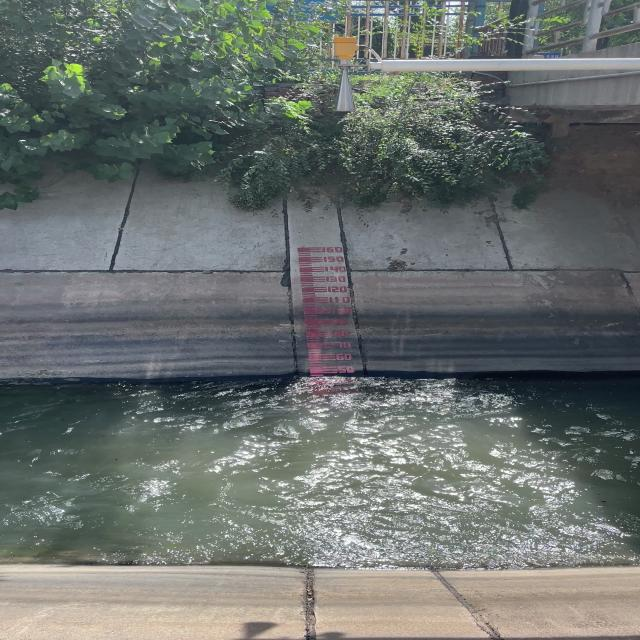ruler: (296, 243, 364, 384)
value: (328, 306, 356, 315), (328, 295, 354, 304), (324, 265, 349, 274), (332, 328, 352, 338), (326, 286, 350, 294), (324, 275, 348, 283), (336, 364, 355, 374), (335, 352, 353, 362), (333, 341, 352, 350), (331, 317, 350, 326), (322, 256, 346, 263)
